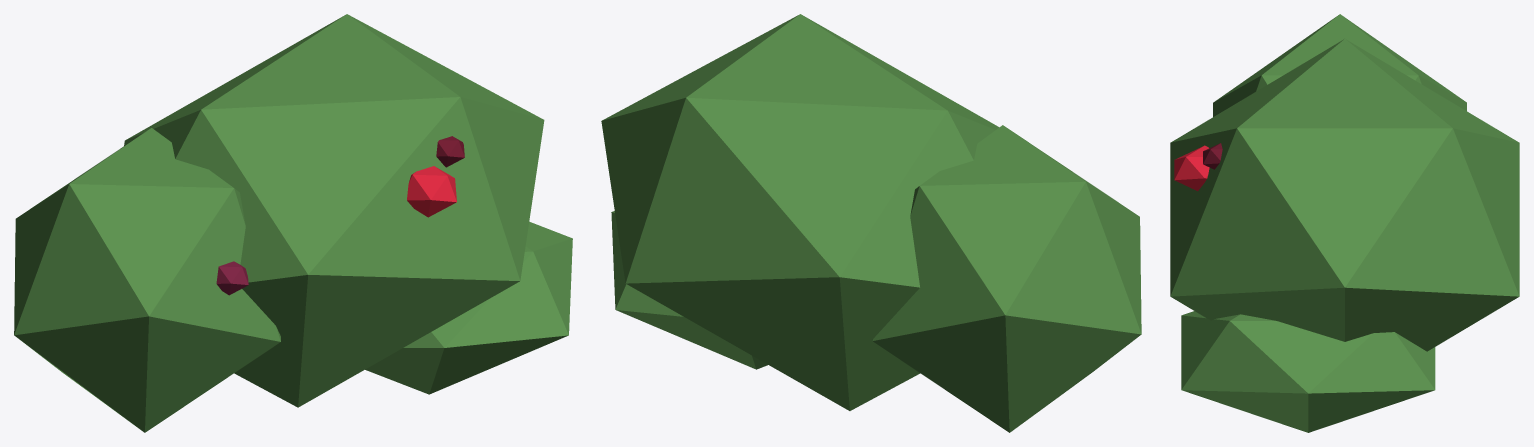
File: Bush.fbx
The picture shows the model from 3 angles, left to right: view 1: azimuth 30°, elevation 25°; view 2: azimuth 150°, elevation 25°; view 3: azimuth 270°, elevation 25°; orthographic projection. The views are drawn at different scales.
Visible parts, largest first — view 1: Icosphere.001, Icosphere, Icosphere.002, Icosphere.004, Icosphere.005, Icosphere.003; view 2: Icosphere.001, Icosphere, Icosphere.002; view 3: Icosphere.001, Icosphere.002, Icosphere, Icosphere.004, Icosphere.003.
Boxes of the visible parts, left/top/right/bottom form: Icosphere.001: left=124, top=14, right=544, bottom=407; Icosphere: left=14, top=128, right=280, bottom=432; Icosphere.002: left=365, top=221, right=572, bottom=394; Icosphere.004: left=407, top=166, right=456, bottom=217; Icosphere.005: left=216, top=261, right=248, bottom=295; Icosphere.003: left=436, top=136, right=464, bottom=167; Icosphere.001: left=601, top=14, right=999, bottom=410; Icosphere: left=872, top=125, right=1141, bottom=432; Icosphere.002: left=611, top=211, right=767, bottom=369; Icosphere.001: left=1170, top=39, right=1519, bottom=351; Icosphere.002: left=1181, top=311, right=1435, bottom=432; Icosphere: left=1213, top=14, right=1466, bottom=116; Icosphere.004: left=1174, top=145, right=1209, bottom=191; Icosphere.003: left=1203, top=143, right=1222, bottom=169.
Size of the model in its own units: 399 by 201 by 234.
